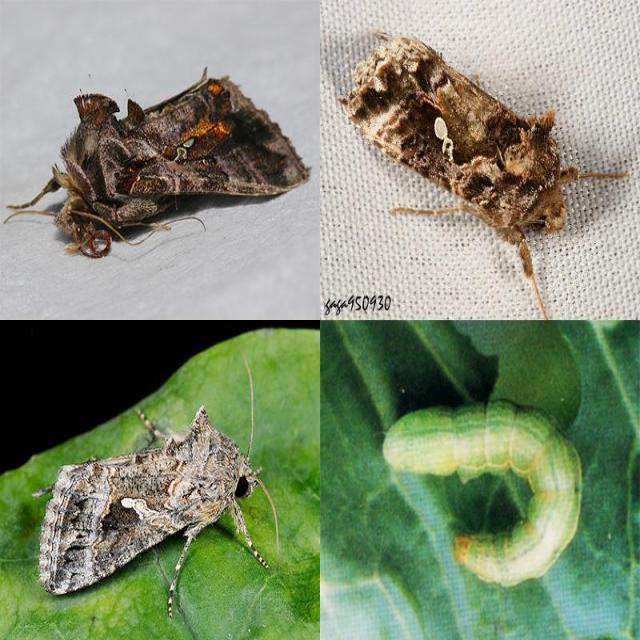armyworm: (41, 58, 309, 262), (350, 33, 580, 262), (30, 406, 276, 600), (378, 412, 589, 593)
